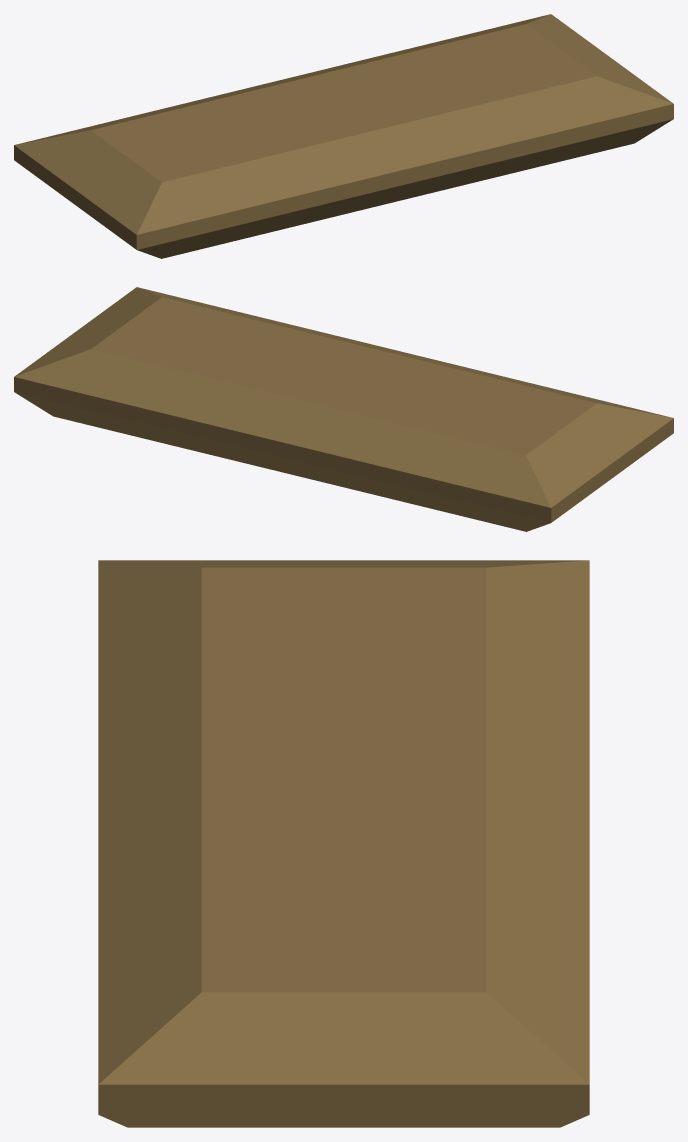
Rendered from Itr_Wardrobe1_Top_01.FBX.
3 renders of one model, top to bottom at view 1: azimuth 30°, elevation 25°; view 2: azimuth 150°, elevation 25°; view 3: azimuth 270°, elevation 25°, orthographic. The views are drawn at different scales.
Parts seen in each view (by area): view 1: Itr_Wardrobe1_Top_01; view 2: Itr_Wardrobe1_Top_01; view 3: Itr_Wardrobe1_Top_01.
Part boxes in pixels (x1=…): Itr_Wardrobe1_Top_01: x1=14, y1=14, x2=673, y2=258; Itr_Wardrobe1_Top_01: x1=14, y1=287, x2=673, y2=531; Itr_Wardrobe1_Top_01: x1=98, y1=560, x2=589, y2=1127.
Bounding box in the file's own units: 50.57 × 5.25 × 20.02.
